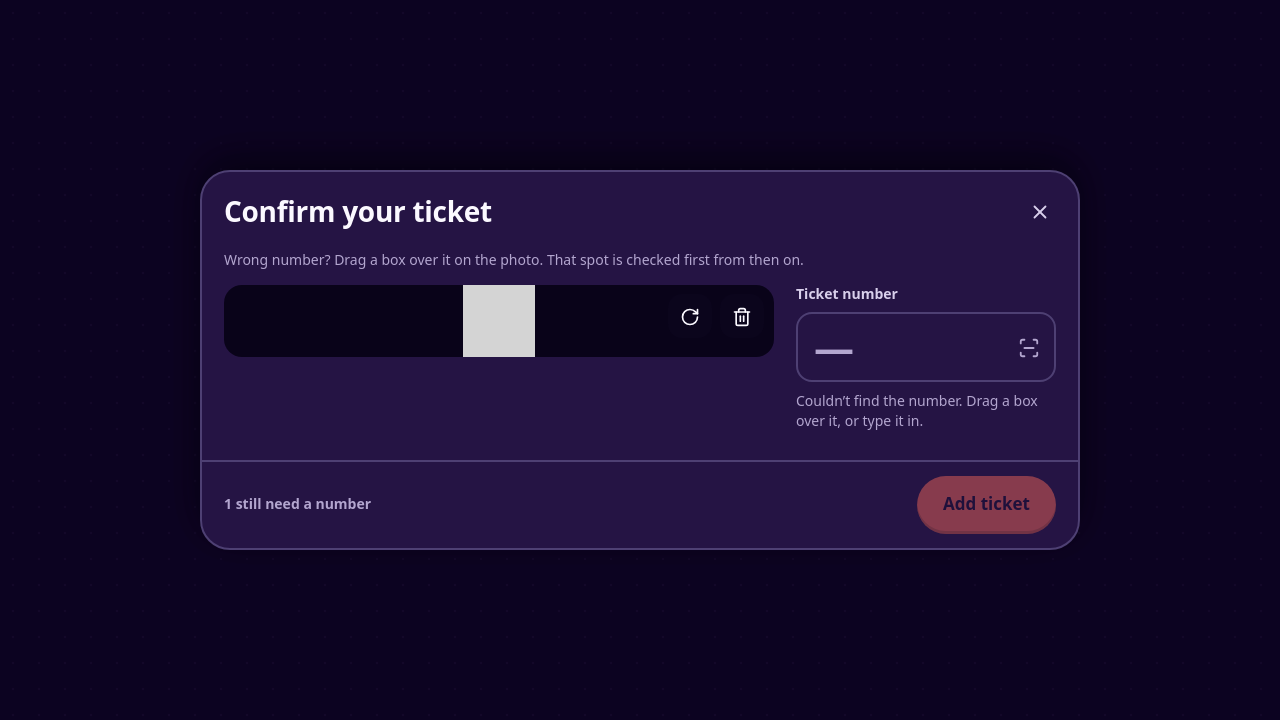
Scenario: ReviewSheet › reads again after you rotate the photo
Expected: the text "Couldn’t find the number. Drag a box over it, or type it in." is shown, [796,391,1056,432]
Click the button named "Rotate photo" at (690,317), box [668,295,712,339]
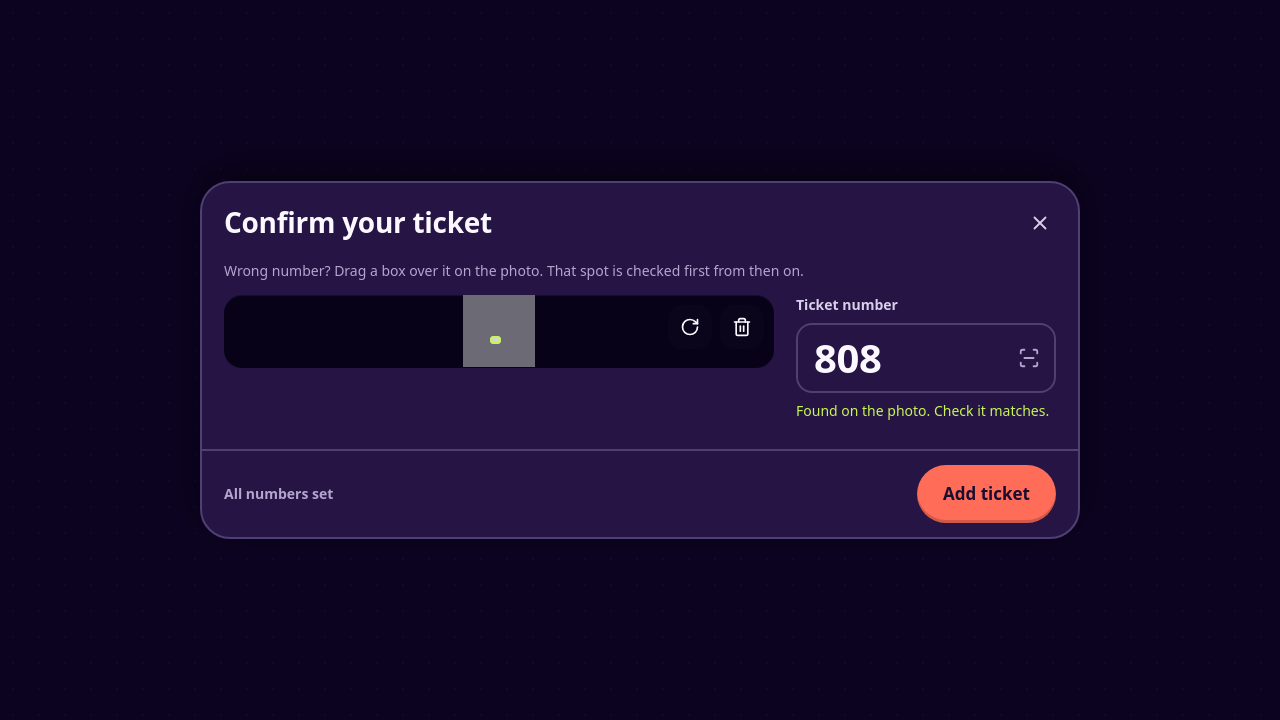
Expected: the field labelled "Ticket number" holds "808", [796,323,1056,393]
